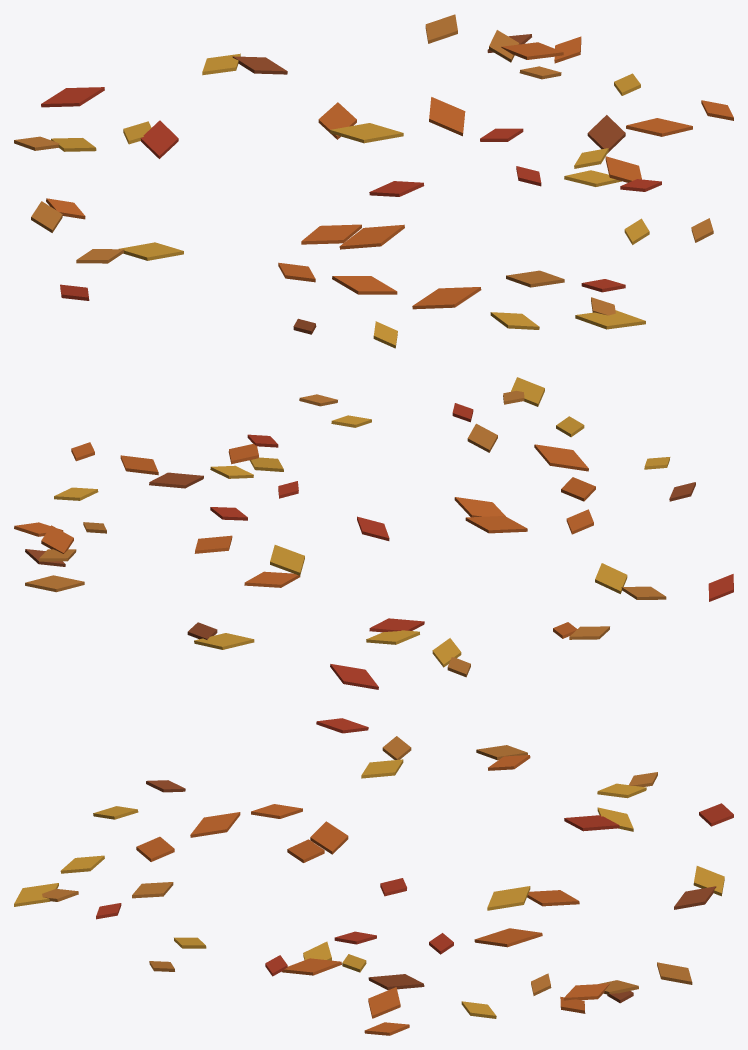
File: c-leaves-decal-a.glb
The picture shows the model from 3 angles, top to bottom: view 1: azimuth 30°, elevation 25°; view 2: azimuth 150°, elevation 25°; view 3: azimuth 270°, elevation 25°; orthographic projection. The views are drawn at different scales.
Visible parts, largest first — view 1: c-leaves-decal-a; view 2: c-leaves-decal-a; view 3: c-leaves-decal-a.
Part boxes in pixels (left/top/right/bottom): c-leaves-decal-a: left=14, top=14, right=733, bottom=348; c-leaves-decal-a: left=14, top=377, right=733, bottom=689; c-leaves-decal-a: left=14, top=718, right=733, bottom=1035.
Bounding box in the file's own units: 1.72 × 0.0359 × 1.65.
